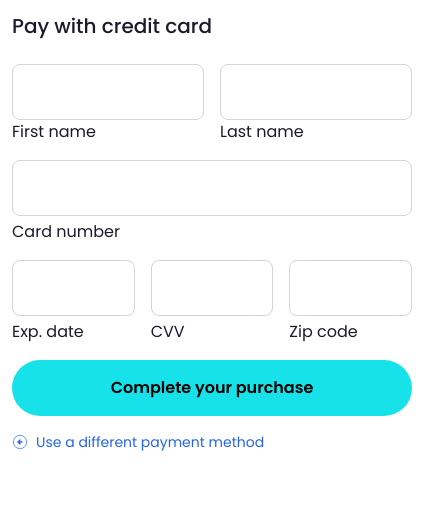
CreditCardForm › processing state recovery › resets button from Processing to idle when tokenization fails
Step 1. Type "John" into the 1st field → coordinates (108, 92), box [12,64,204,120]
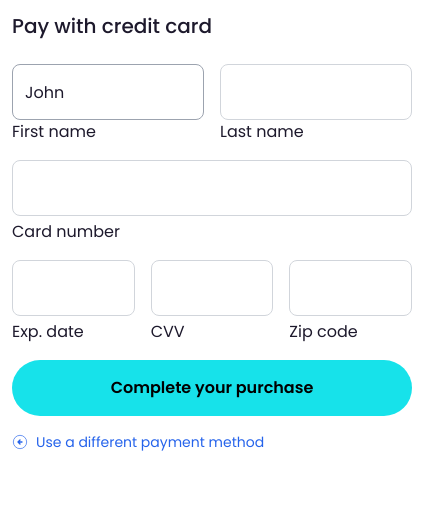
Step 2. Type "Doe" into the 2nd field → coordinates (316, 92), box [220,64,412,120]
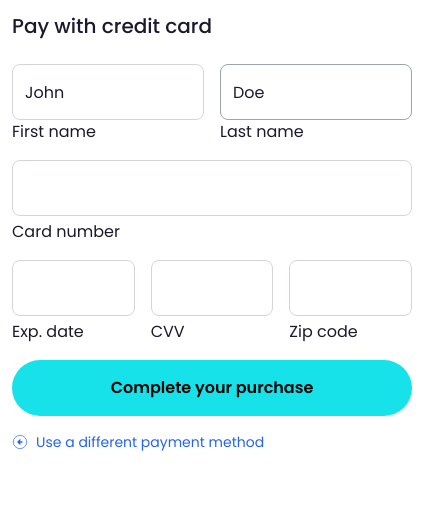
Step 3. Type "12345" into the 3rd field → coordinates (351, 288), box [289,260,412,316]
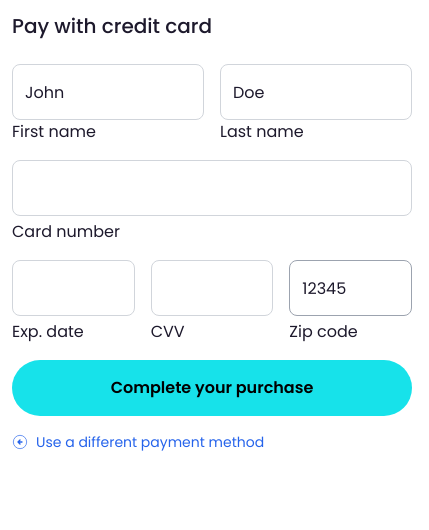
Submit the form
Step 4. Click the button "Complete your purchase" → coordinates (212, 388), box [12,360,412,416]
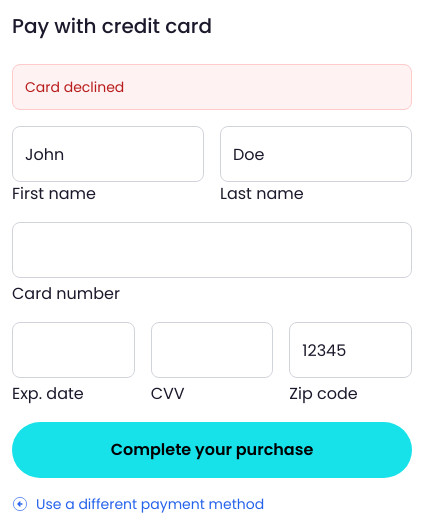
Expected: the button "Complete your purchase" is shown, [12,422,412,478]
Now the text "Card declined" is shown, box [25,77,124,97]
